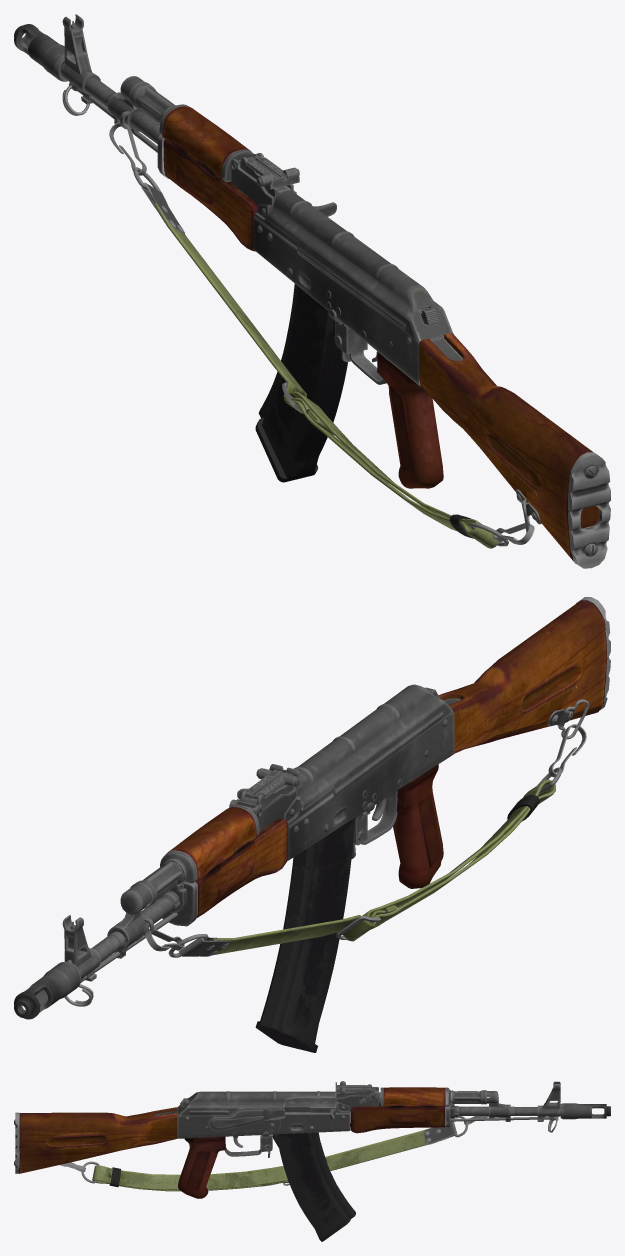
File: akm.glb
The picture shows the model from 3 angles, top to bottom: view 1: azimuth 30°, elevation 25°; view 2: azimuth 150°, elevation 25°; view 3: azimuth 270°, elevation 25°; orthographic projection. The views are drawn at different scales.
Bounding box in the file's own units: 0.0844 × 0.2523 × 0.88.
Materials: 1 (1 with a texture image).
